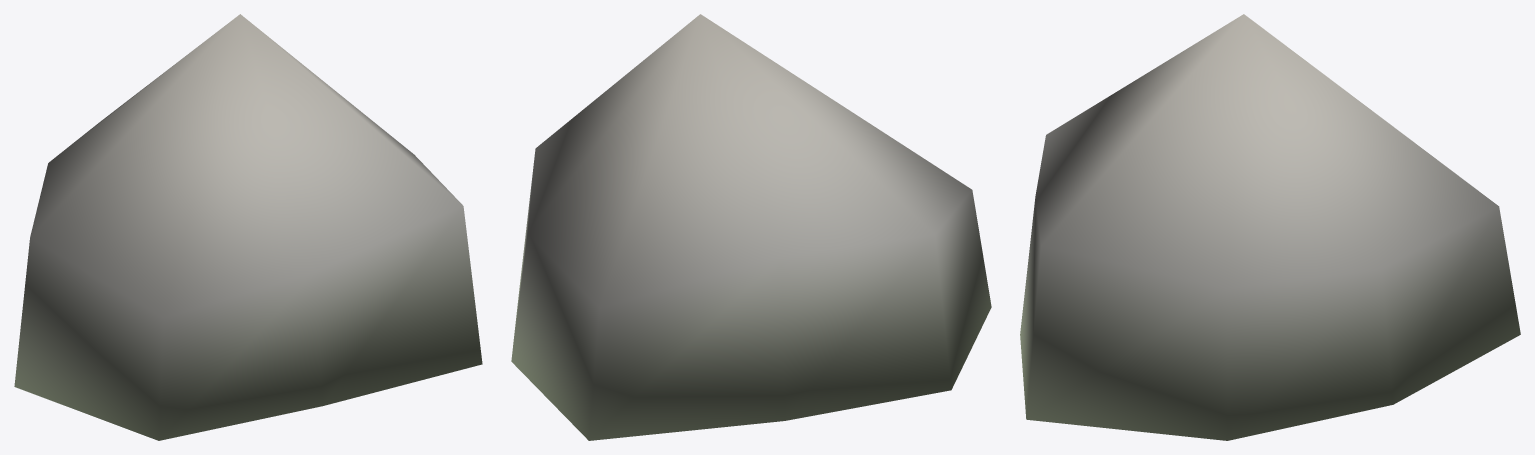
File: pond_stone.glb
3 renders of one model, left to right at view 1: azimuth 30°, elevation 25°; view 2: azimuth 150°, elevation 25°; view 3: azimuth 270°, elevation 25°, orthographic. The views are drawn at different scales.
Parts seen in each view (by area): view 1: pond_stone_mesh; view 2: pond_stone_mesh; view 3: pond_stone_mesh.
Part boxes in pixels (<box>): pond_stone_mesh: <box>14,14,482,440</box>; pond_stone_mesh: <box>511,14,991,440</box>; pond_stone_mesh: <box>1020,14,1520,440</box>.
Bounding box in the file's own units: 0.5148 × 0.368 × 0.5027.
